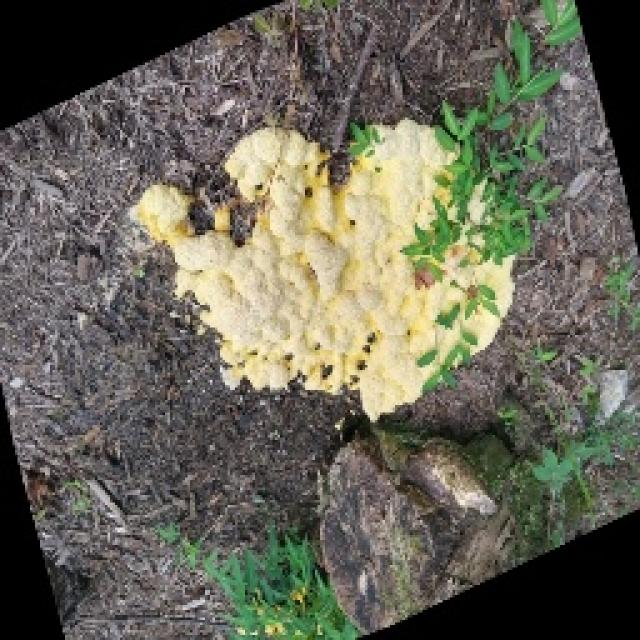Dog_vomit_slime_mold: (114, 134, 567, 420)
